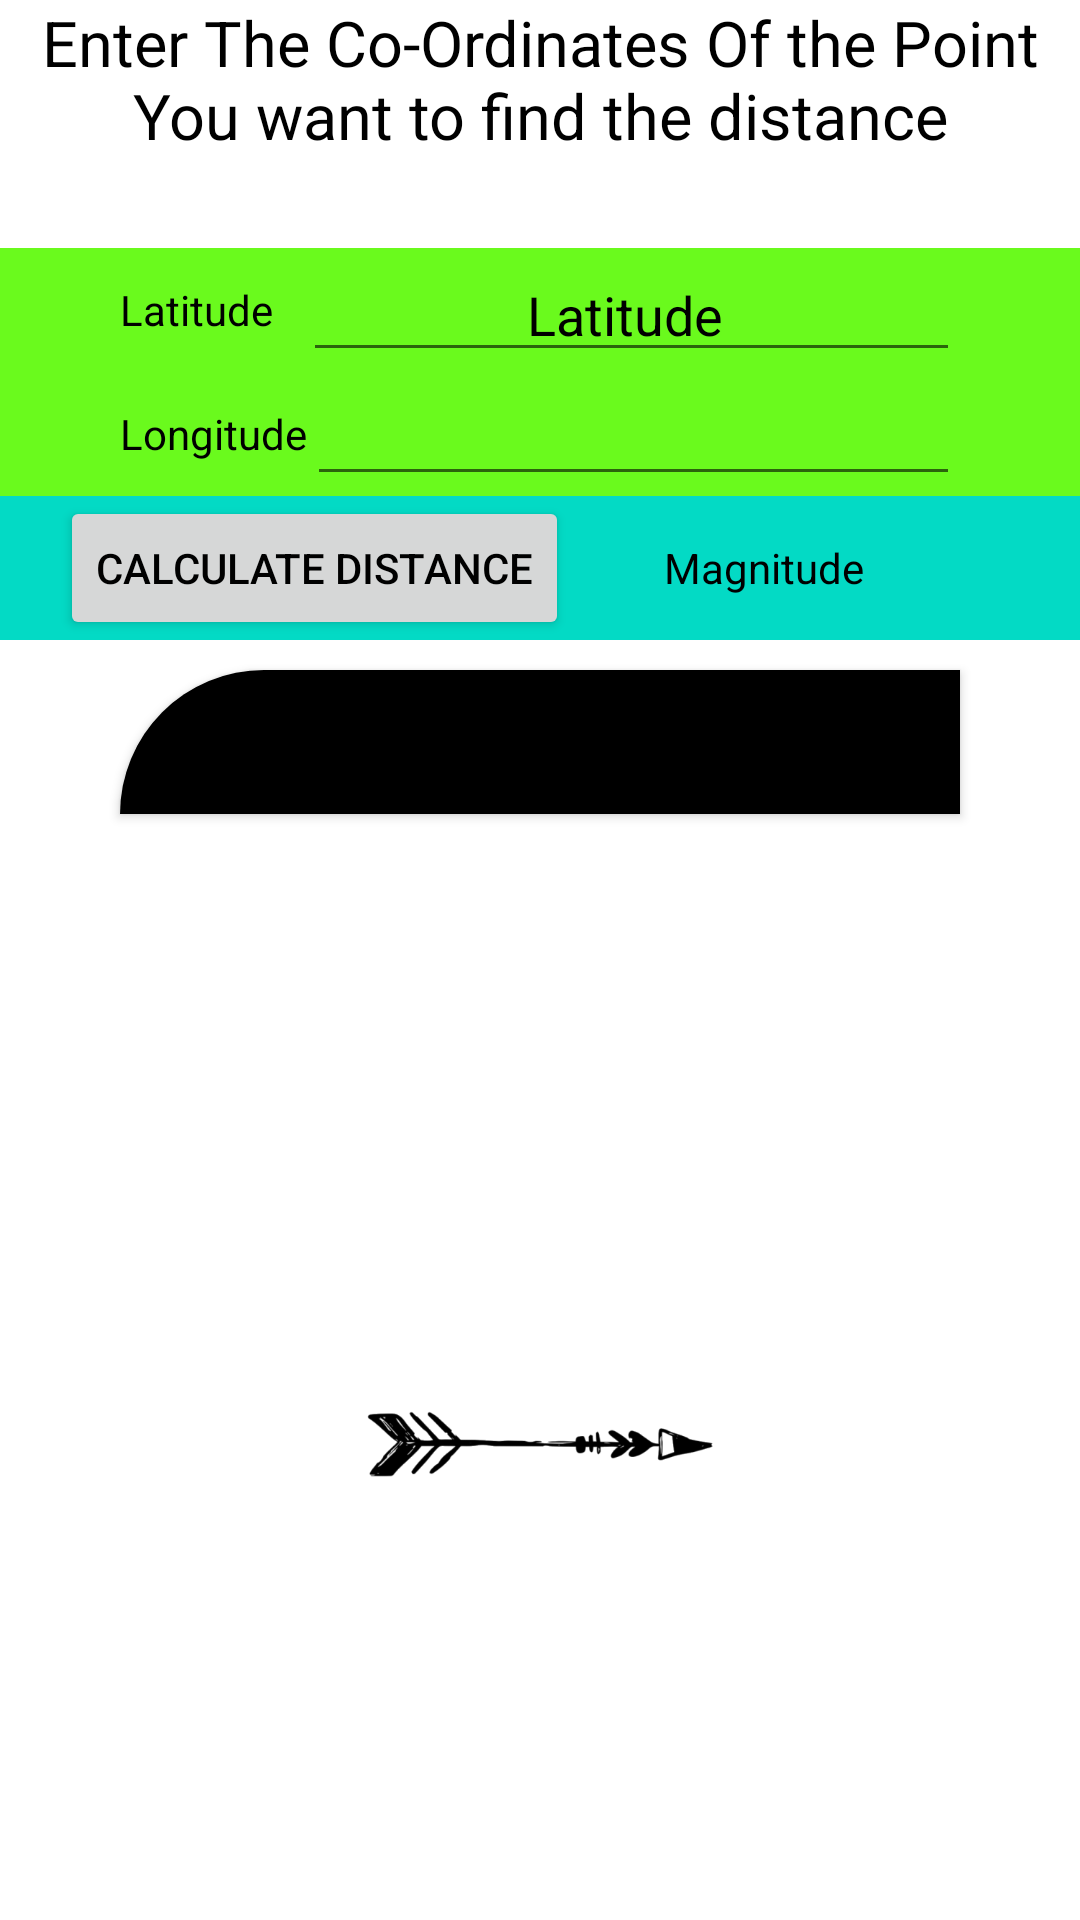

Named icons in this screenshot (1080×1920) and their centers, [x,y]:
arrow: [540,1444]
